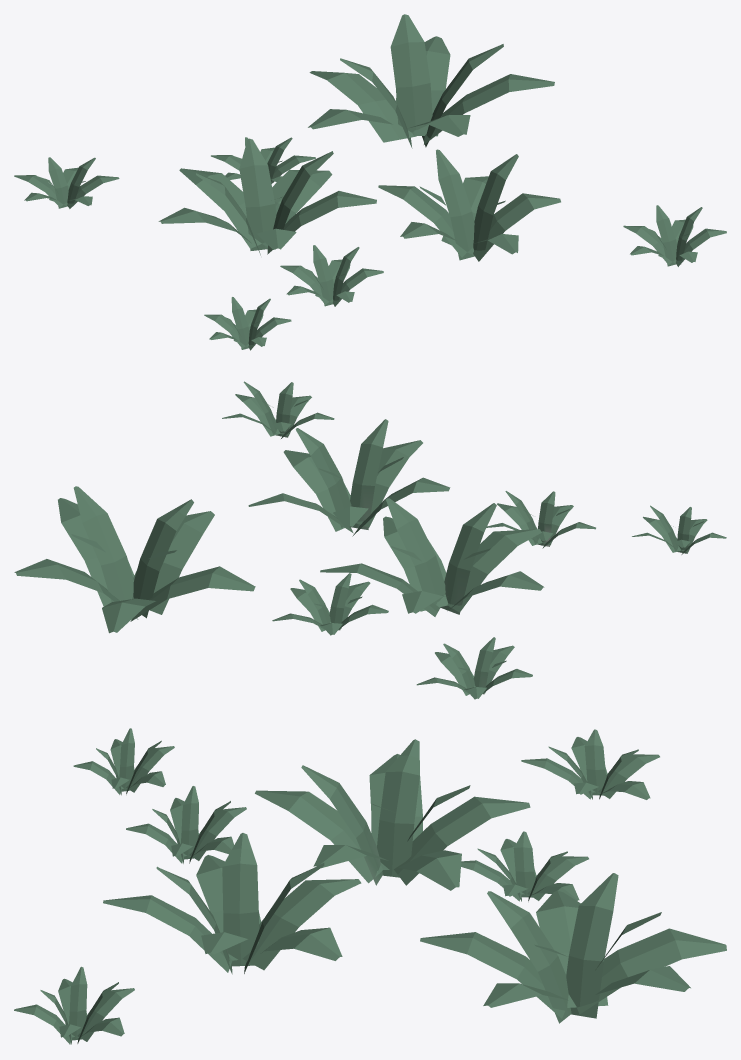
File: _flower.glb
3 renders of one model, top to bottom at view 1: azimuth 30°, elevation 25°; view 2: azimuth 150°, elevation 25°; view 3: azimuth 270°, elevation 25°, orthographic. The views are drawn at different scales.
Parts seen in each view (by area): view 1: Plane.007; view 2: Plane.007; view 3: Plane.007.
Boxes of the visible parts, box(x1,y1,x2,y2) form: Plane.007: box(14, 14, 726, 350); Plane.007: box(14, 381, 726, 699); Plane.007: box(14, 728, 726, 1044).
Size of the model in its own units: 1.57 by 0.2933 by 1.57.
